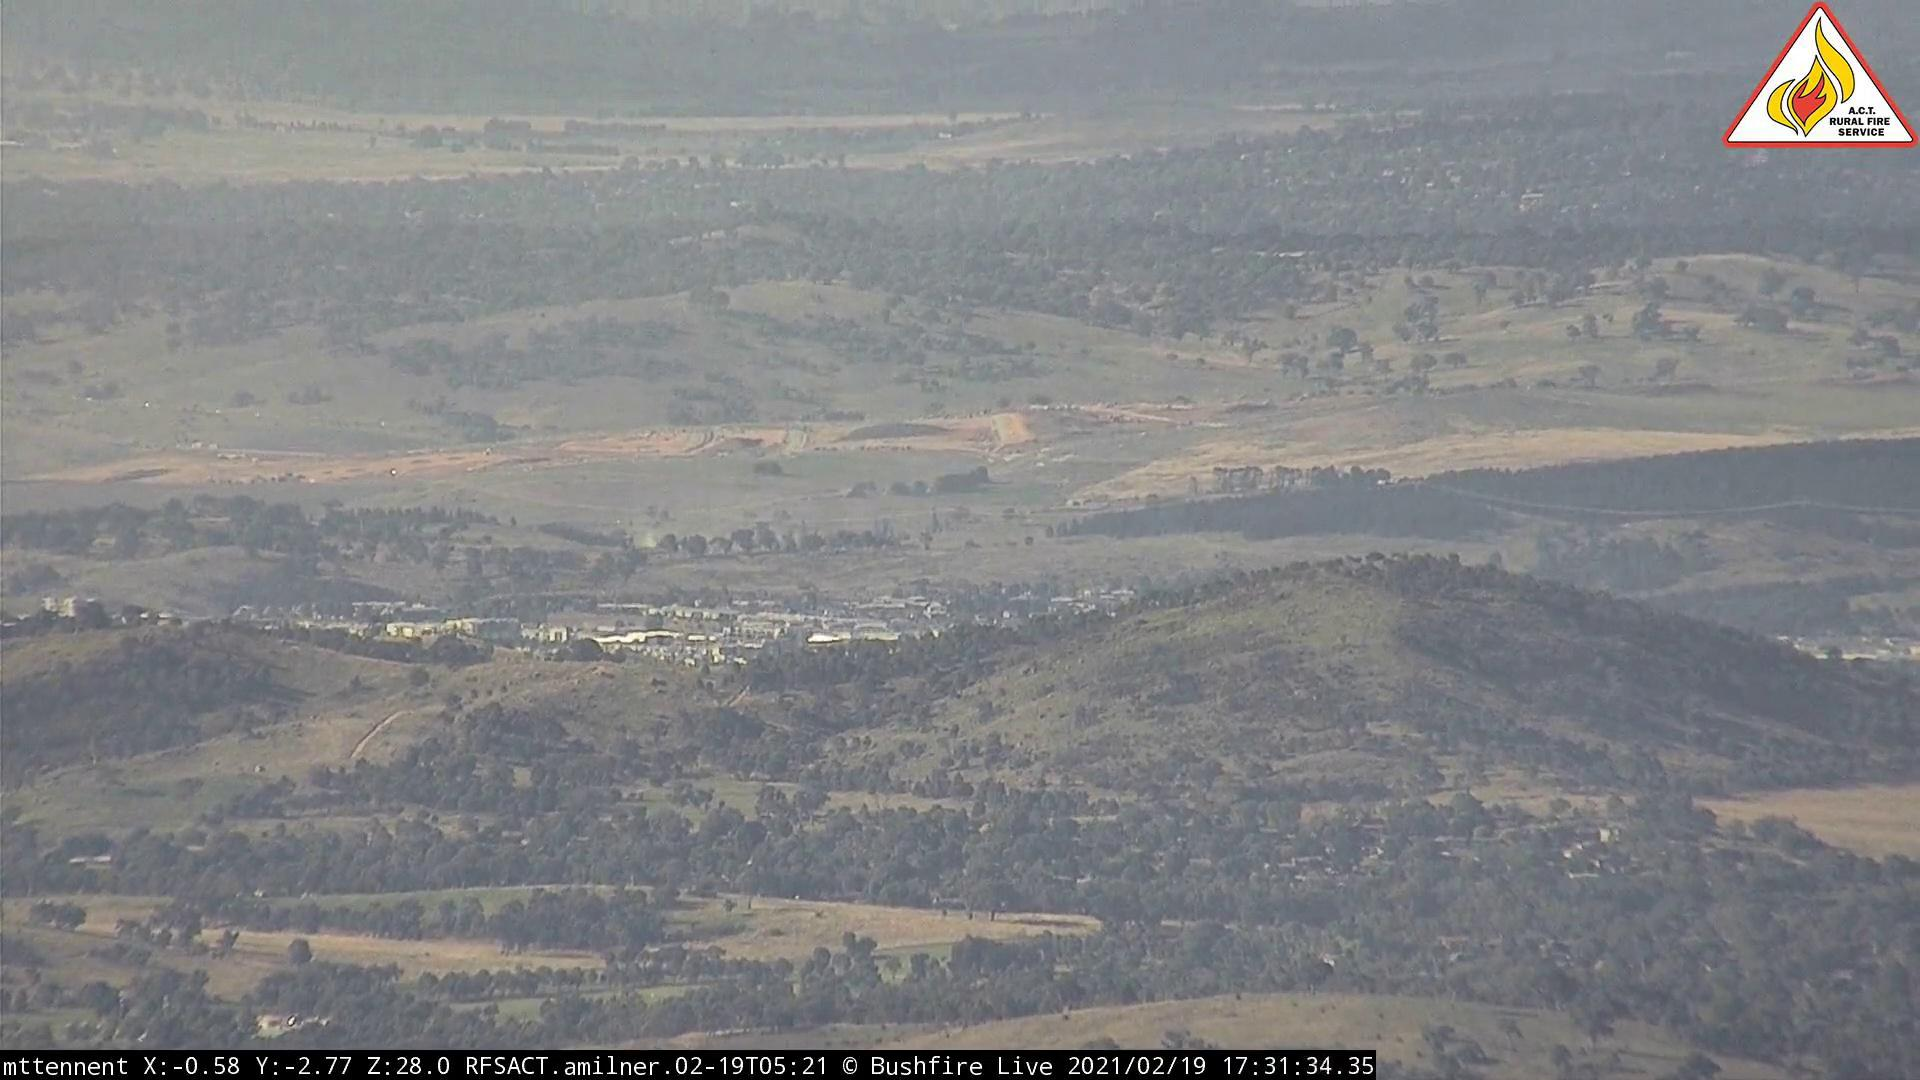instance_salient_object: (641, 516, 682, 553)
